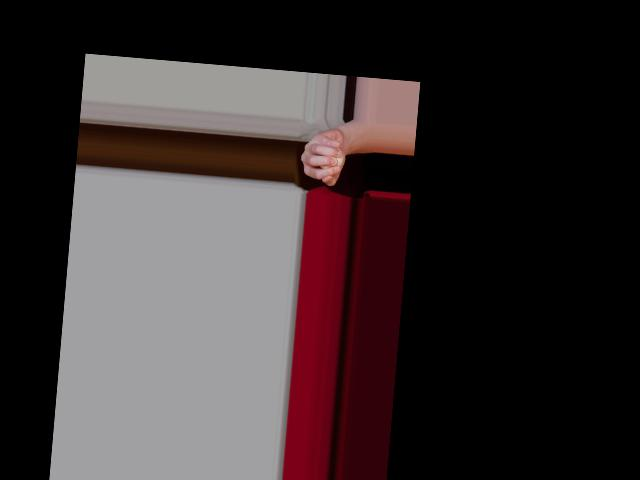egg: (318, 147, 344, 173)
